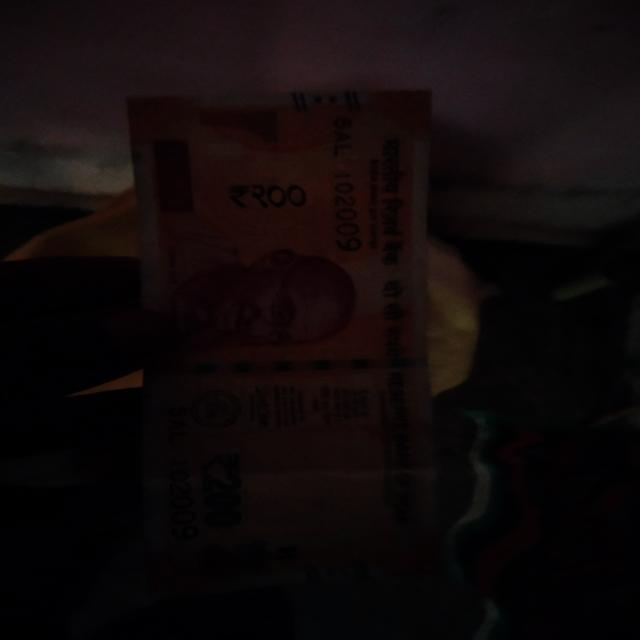200rs: (128, 94, 430, 576)
